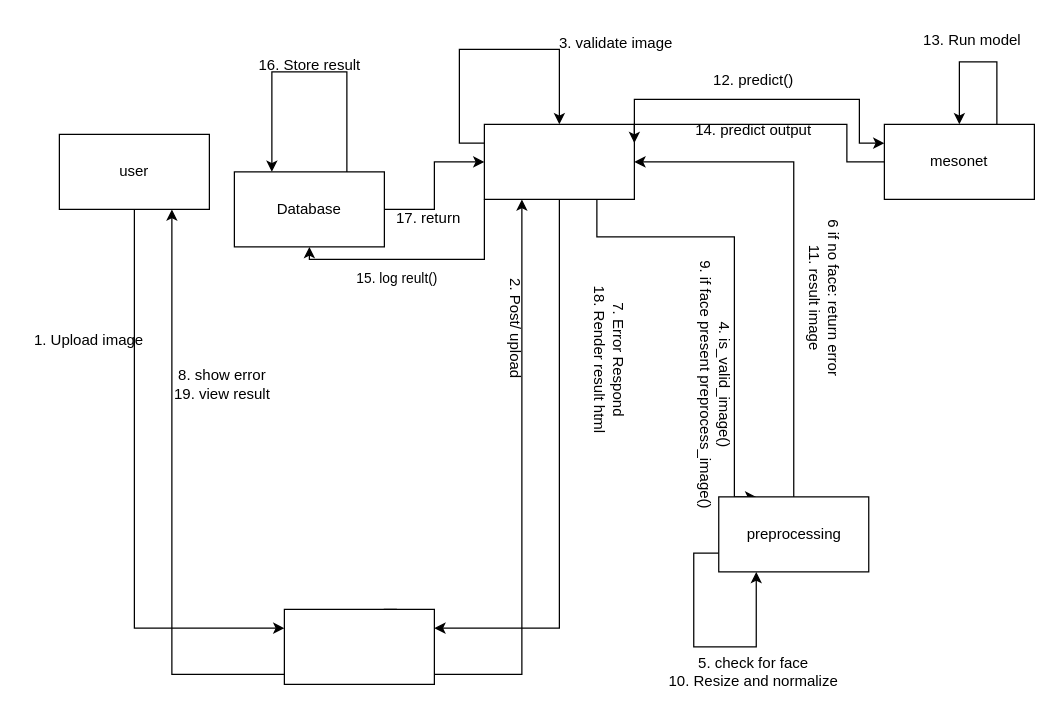
This 1056x718 diagram has some shape labels left out. Here are the shapes that lost their labels. From the top down, the centre of each, then its label:
point (558, 161): flask app
point (358, 646): web UI
